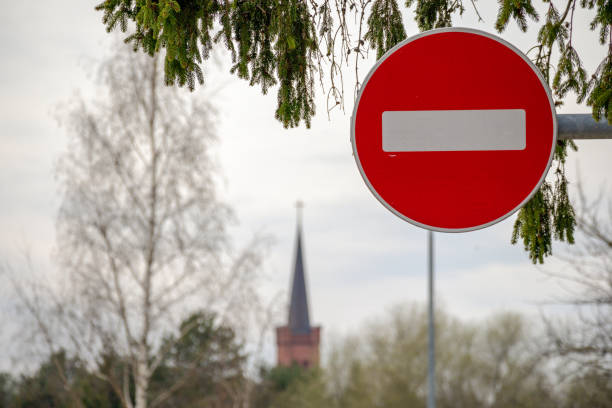Girilmez: (349, 23, 556, 237)
